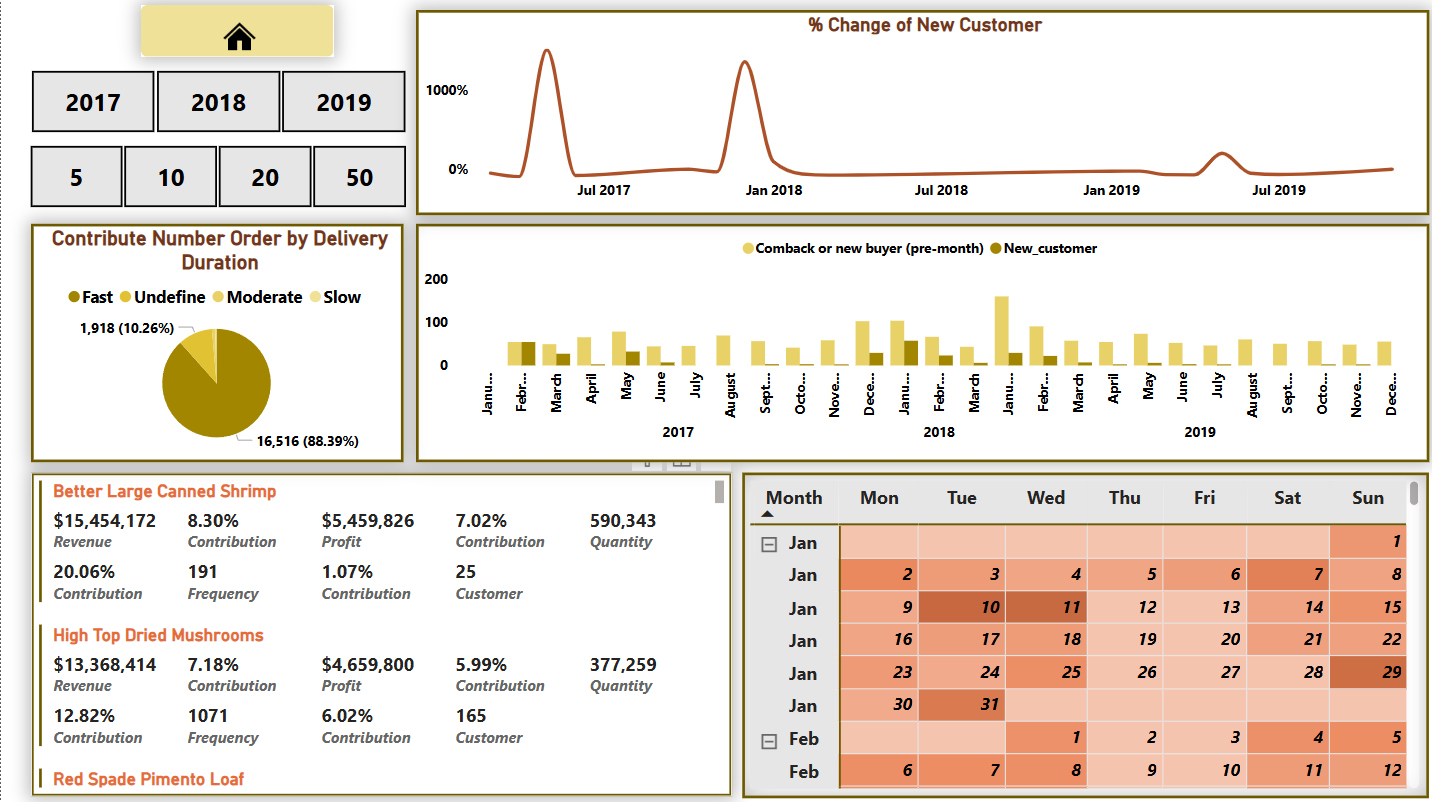

What the dashboard file says about the page in this screenshot:
{"tool":"powerbi","page":{"name":"More detailed table","canvas":[1280,720],"ordinal":1},"visuals":[{"type":"actionButton","box":[124,4,171,46],"z":0,"group":"g1"},{"type":"multiRowCard","fields":{"Values":["Sales_data.Item","Top_product.Revenue_base_on_Rank","Sales_data.Contribute by revenue","Top_product.Profit_base_on_Profit","Sales_data.Contribute by profit","Top_product.Quantity_base_on_Rank","Sales_data.Contribute of quantity","Top_product.Frequency_base_on_Rank","Sales_data.Contribute by Frequency","Top_product.Number_Customer_base_on_Rank"]},"box":[26.7,419.8,623.3,288.4],"z":0},{"type":"image","box":[184.3,10.9,55.8,42.6],"z":1000,"group":"g1"},{"type":"lineClusteredColumnComboChart","fields":{"Y":["Sales_data.Comback or new buyer (pre-month)","Sales_data.New_customer"],"Category":["Date.Date.Variation.Date Hierarchy.Year","Date.Date.Variation.Date Hierarchy.Month"]},"box":[369,199.2,900.5,211.8],"z":1000},{"type":"pieChart","title":"Contribute Number Order by Delivery Duration","fields":{"Category":["Sales_data.Determine_is_on_time"],"Y":["Sales_data.Total_order_number"]},"box":[26.7,198.8,331.4,211.6],"z":2000},{"type":"pivotTable","fields":{"Rows":["Date.Year","Date.Month_text","Date.Weekly"],"Columns":["Date.Day_text"],"Values":["Sum(Date.Day)"]},"box":[659.3,419.8,610.5,289.5],"z":3000},{"type":"slicer","fields":{"Values":["Date.Year"]},"box":[1.2,41.9,382.6,82.6],"z":4000},{"type":"lineChart","title":"% Change of New Customer","fields":{"Category":["Date.Date.Variation.Date Hierarchy.Year","Date.Date.Variation.Date Hierarchy.Month"],"Y":["Sales_data.%Change_New_Customer"]},"box":[369,9.4,900.5,182.4],"z":5000},{"type":"slicer","fields":{"Values":["Top_product.Value"]},"box":[0,109.3,383.7,82.6],"z":6000},{"type":"group","id":"g1","title":"Group 1","box":[124,4,171,49.5],"z":7000}]}

Visuals, with their boxes in screenshot pixels (x1, y1, x2, y2), scaled from the page's 1280x720 canvas onto the 1432x802 screenshot:
actionButton: bbox=(139, 4, 330, 56)
multiRowCard - Sales_data.Item x Top_product.Revenue_base_on_Rank: bbox=(30, 468, 727, 789)
image: bbox=(206, 12, 269, 60)
lineClusteredColumnComboChart - Sales_data.Comback or new buyer (pre-month) x Sales_data.New_customer: bbox=(413, 222, 1420, 458)
"Contribute Number Order by Delivery Duration" pieChart: bbox=(30, 221, 401, 457)
pivotTable - Date.Year x Date.Month_text: bbox=(738, 468, 1421, 790)
slicer - Date.Year: bbox=(1, 47, 429, 139)
"% Change of New Customer" lineChart: bbox=(413, 10, 1420, 214)
slicer - Top_product.Value: bbox=(0, 122, 429, 214)
"Group 1" group: bbox=(139, 4, 330, 60)
